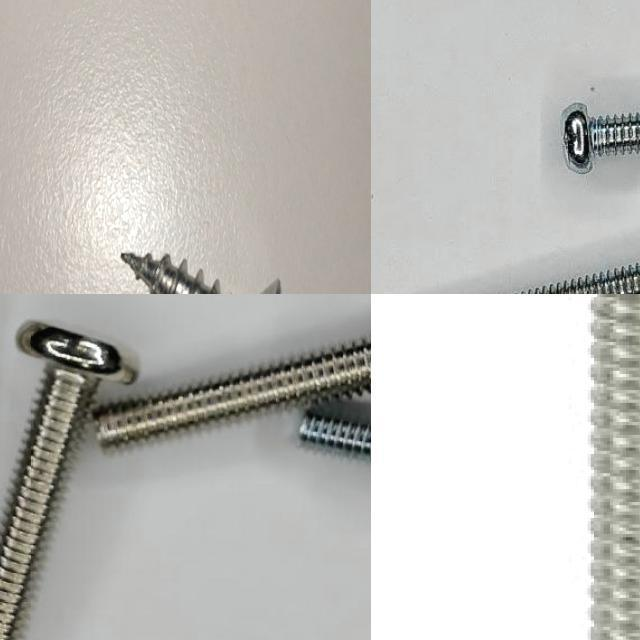Screw: (0, 321, 137, 640), (92, 339, 371, 445), (588, 294, 640, 640), (561, 103, 640, 173), (121, 252, 222, 294), (299, 413, 371, 455)
